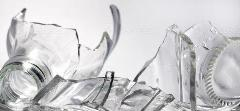glass: (0, 2, 240, 111)
